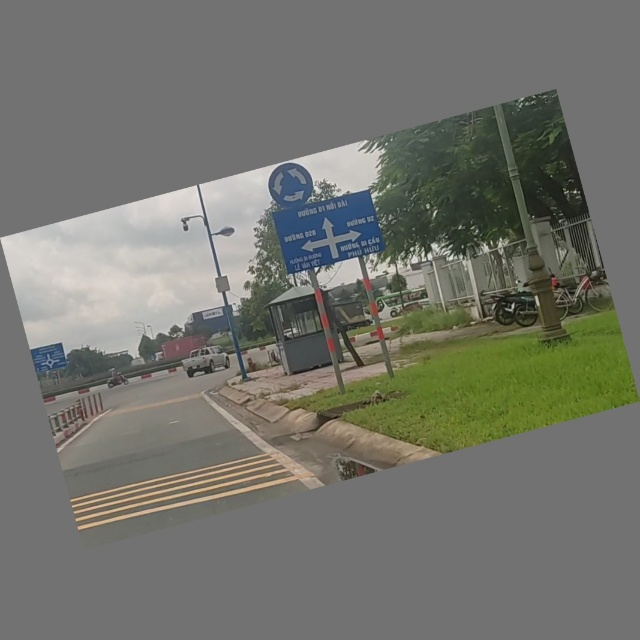R.303: (260, 156, 322, 214)
